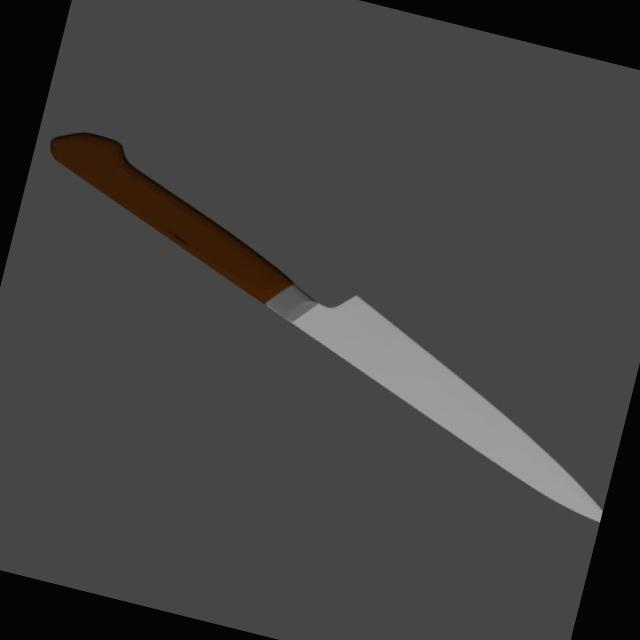knife: (25, 124, 318, 310)
